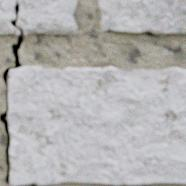brick: (8, 66, 185, 185), (98, 0, 185, 34)
broken_brick: (0, 0, 76, 35)
crack: (0, 2, 23, 185)
